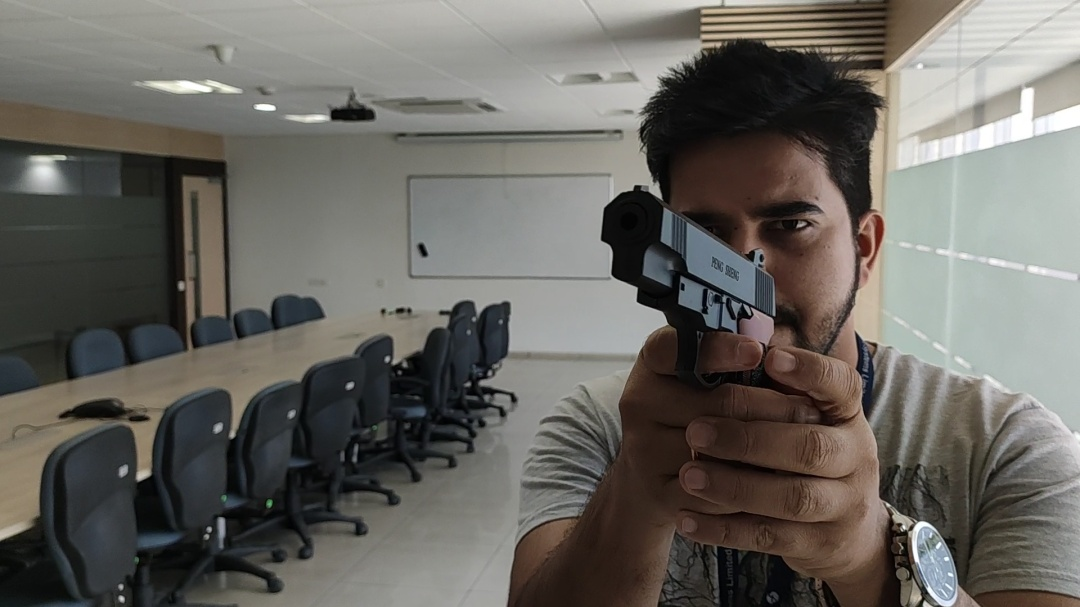gun: (597, 183, 783, 349)
